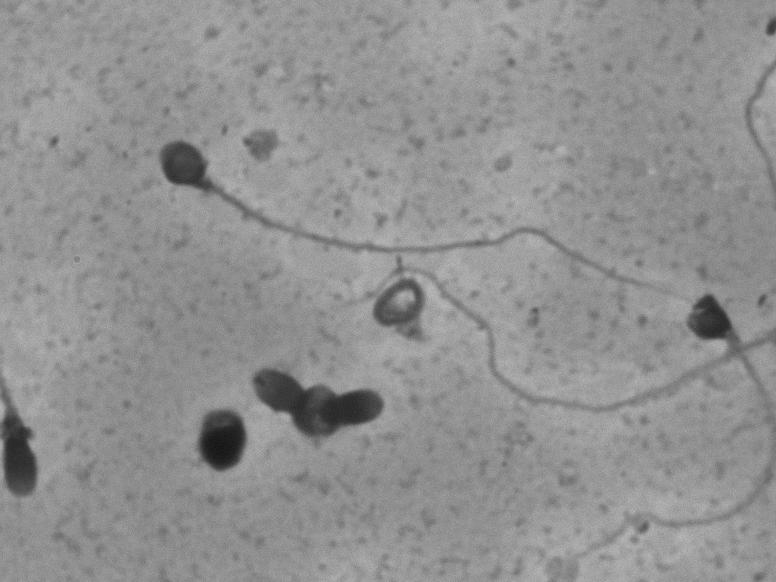Abnormal: (96, 108, 659, 330)
